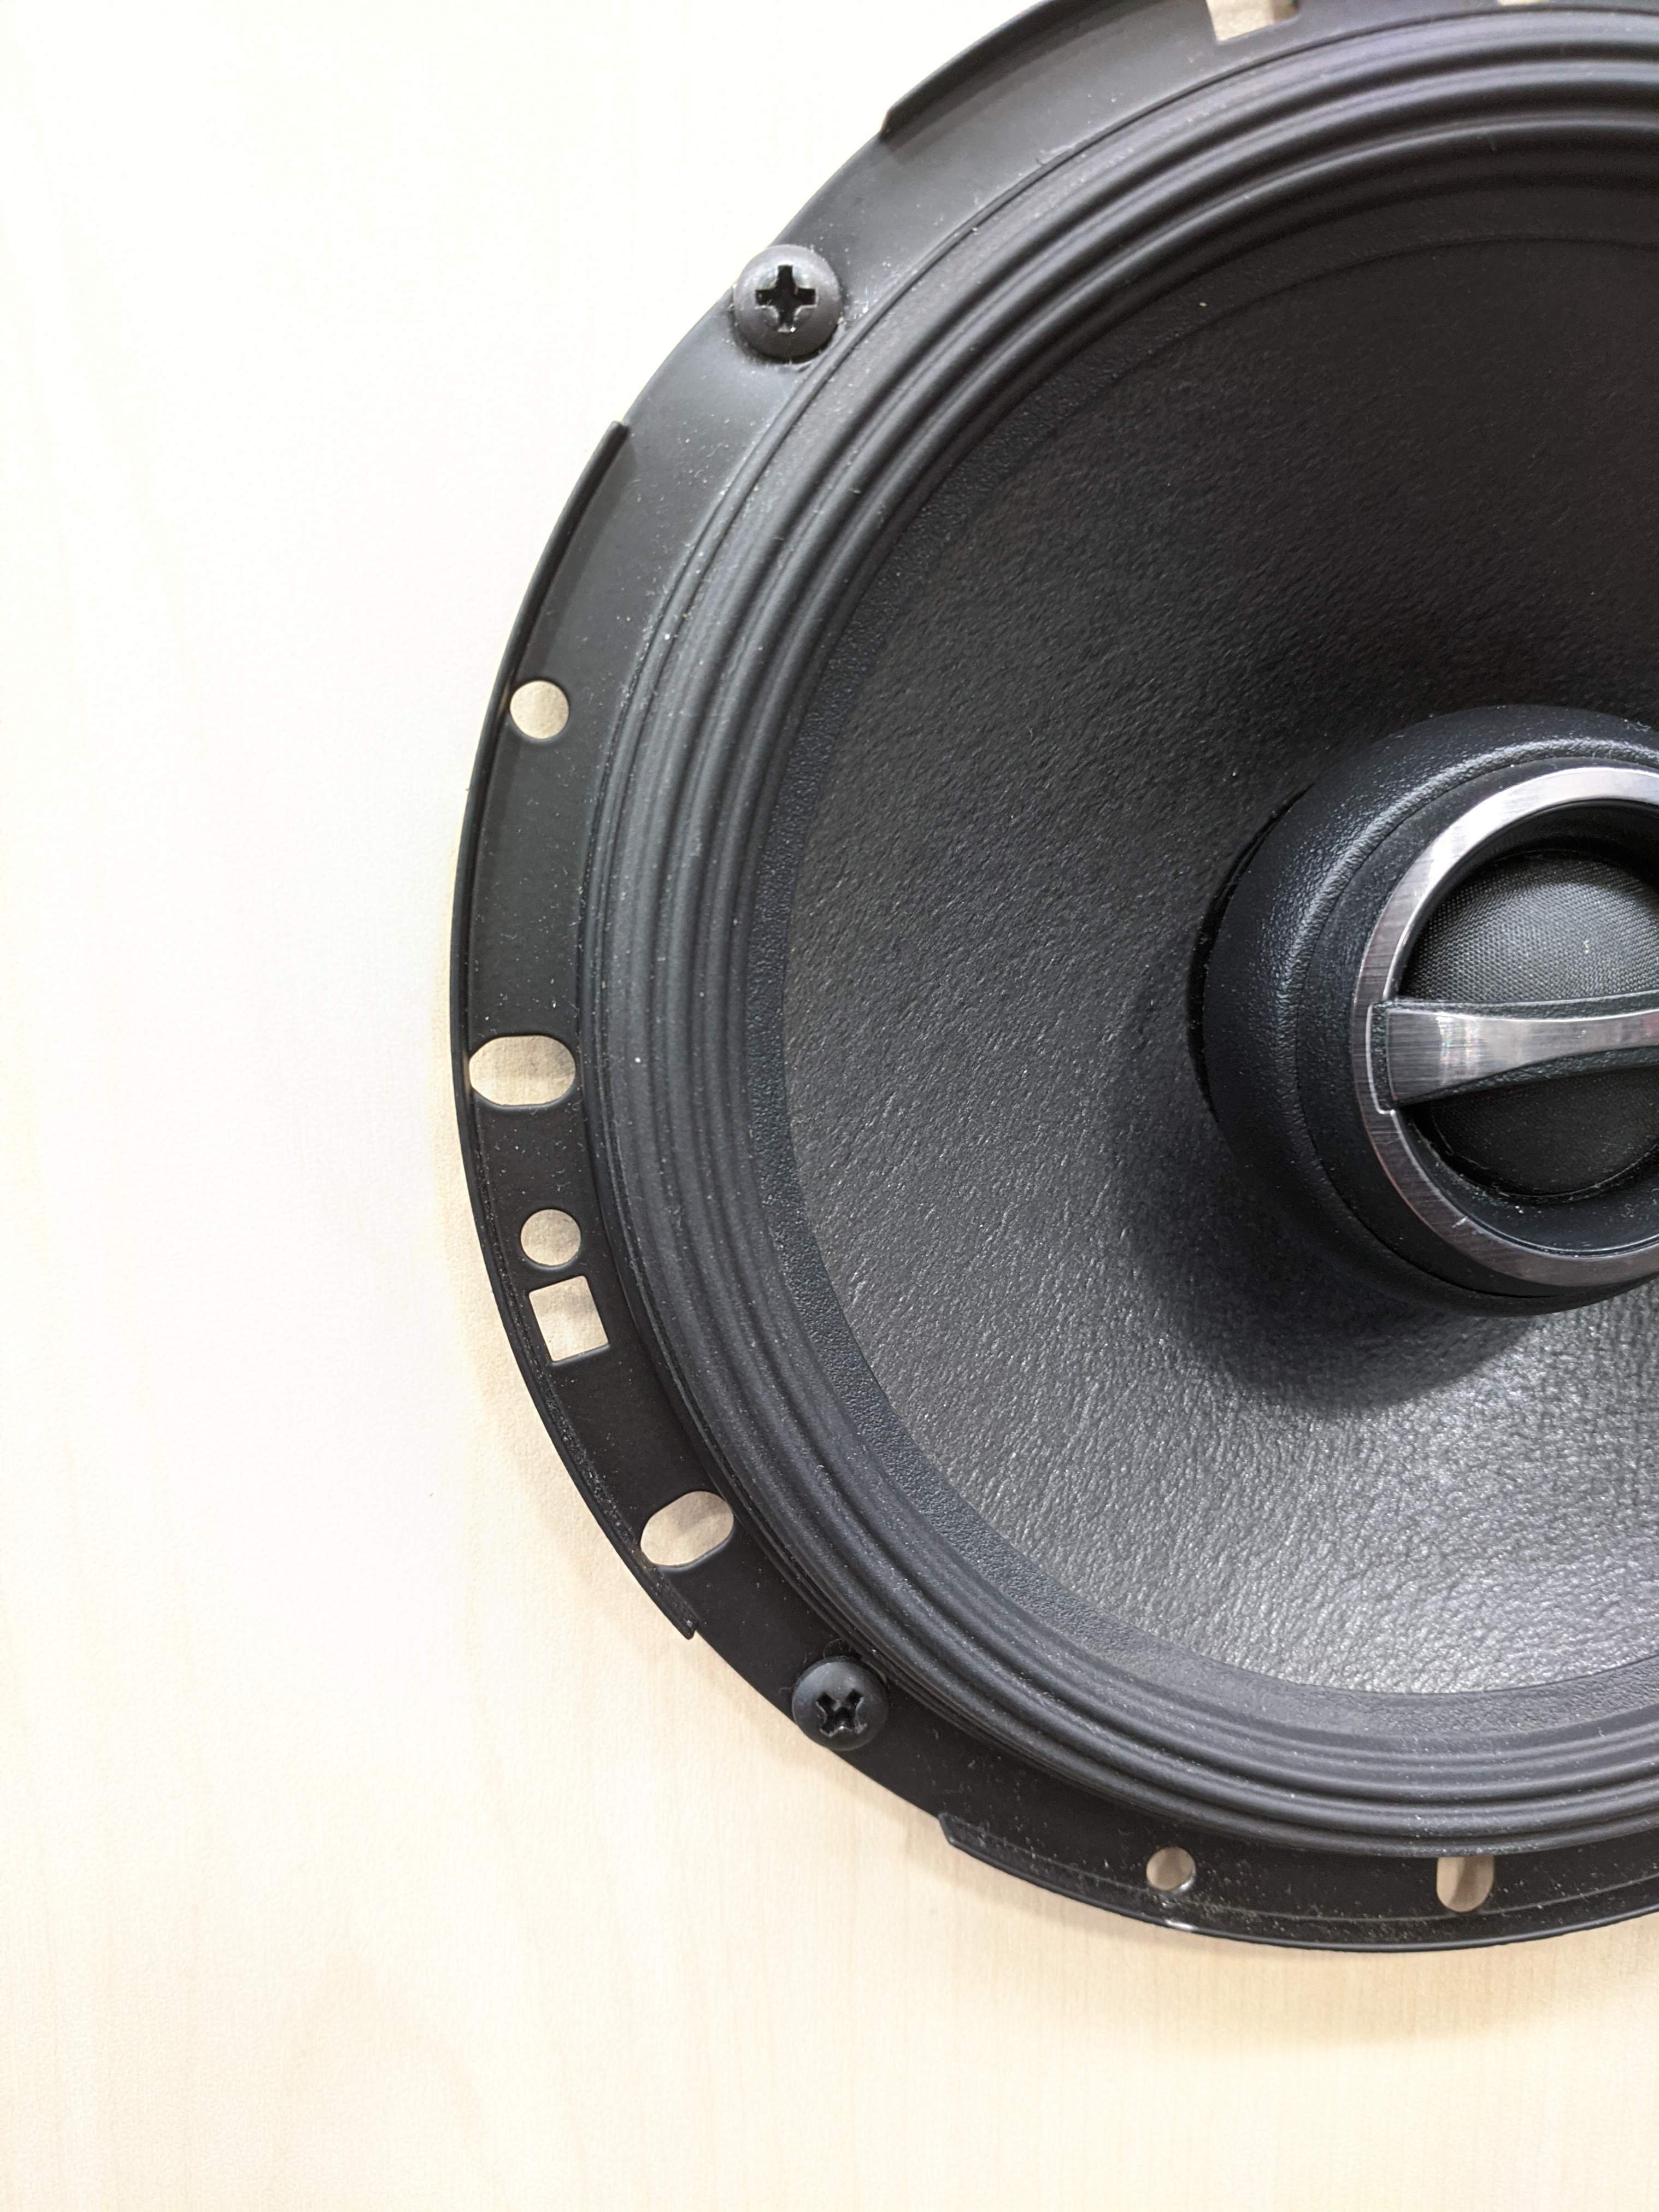cross_recessed_screw: (772, 1642, 889, 1754), (723, 240, 838, 352)
